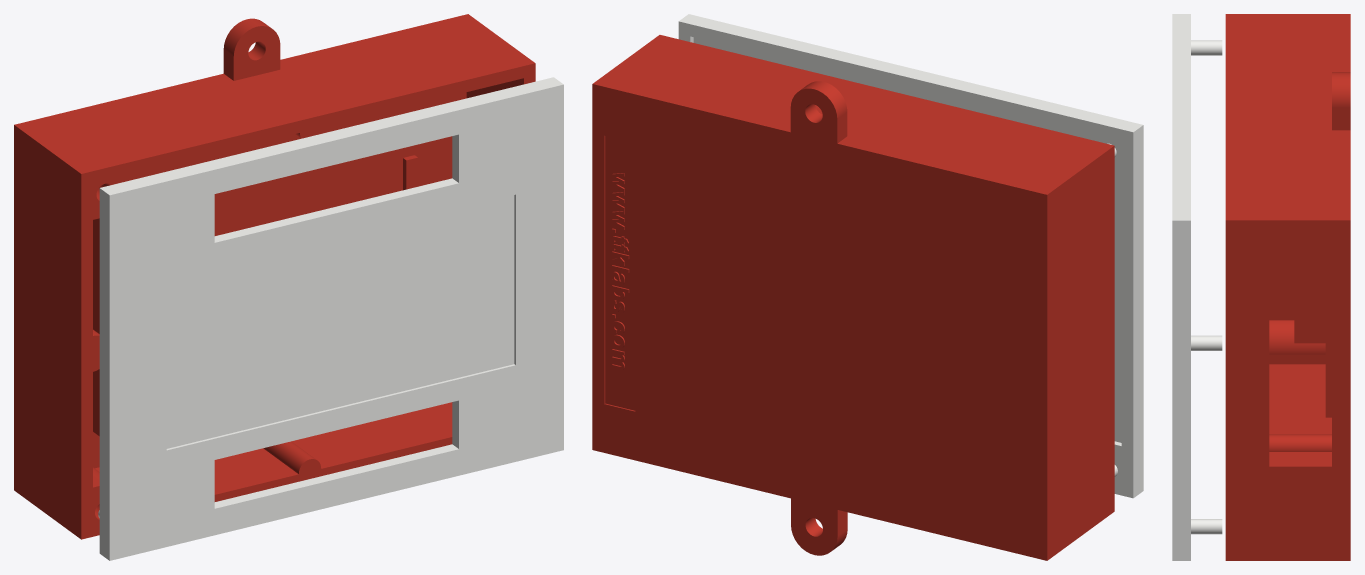
The model's file is Wemos v11.fbx.
The picture shows the model from 3 angles, left to right: view 1: azimuth 30°, elevation 25°; view 2: azimuth 150°, elevation 25°; view 3: azimuth 270°, elevation 25°; orthographic projection. The views are drawn at different scales.
Visible parts, largest first — view 1: Cover, Case; view 2: Case, Cover; view 3: Case, Cover.
Boxes of the visible parts, bbox=[...] form: Cover: bbox=[98, 77, 563, 560]; Case: bbox=[14, 14, 535, 539]; Case: bbox=[592, 35, 1114, 560]; Cover: bbox=[678, 14, 1143, 498]; Case: bbox=[1225, 14, 1350, 560]; Cover: bbox=[1172, 14, 1222, 560].
Size of the model in its own units: 39.03 by 38.17 by 14.27.
